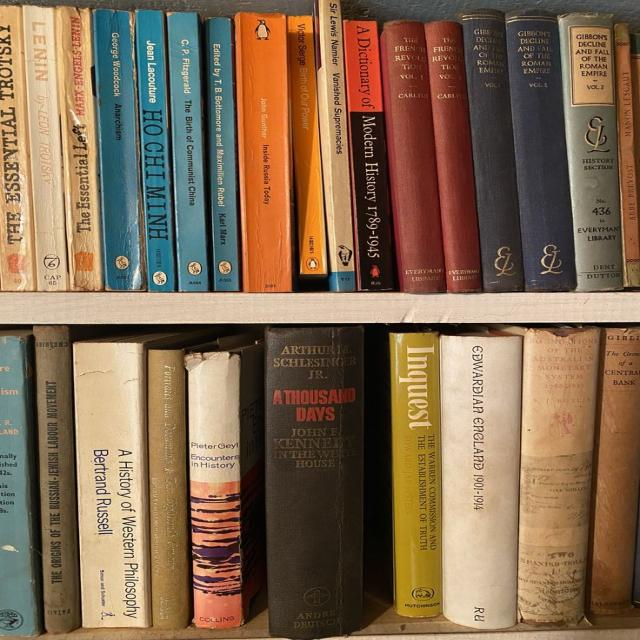book: (267, 326, 362, 635), (520, 328, 601, 623), (440, 335, 522, 626), (73, 343, 148, 628), (507, 10, 577, 290), (558, 13, 625, 291), (462, 11, 525, 292), (384, 21, 446, 292), (188, 352, 245, 625), (586, 328, 640, 612), (92, 9, 145, 291), (426, 22, 480, 292), (240, 13, 292, 291), (389, 333, 440, 614), (344, 19, 393, 290), (57, 7, 102, 291), (24, 4, 67, 292), (135, 9, 176, 291), (167, 11, 208, 291), (35, 326, 72, 633), (149, 351, 187, 628), (323, 0, 357, 290), (289, 16, 327, 273), (1, 5, 34, 292), (206, 16, 238, 291)
